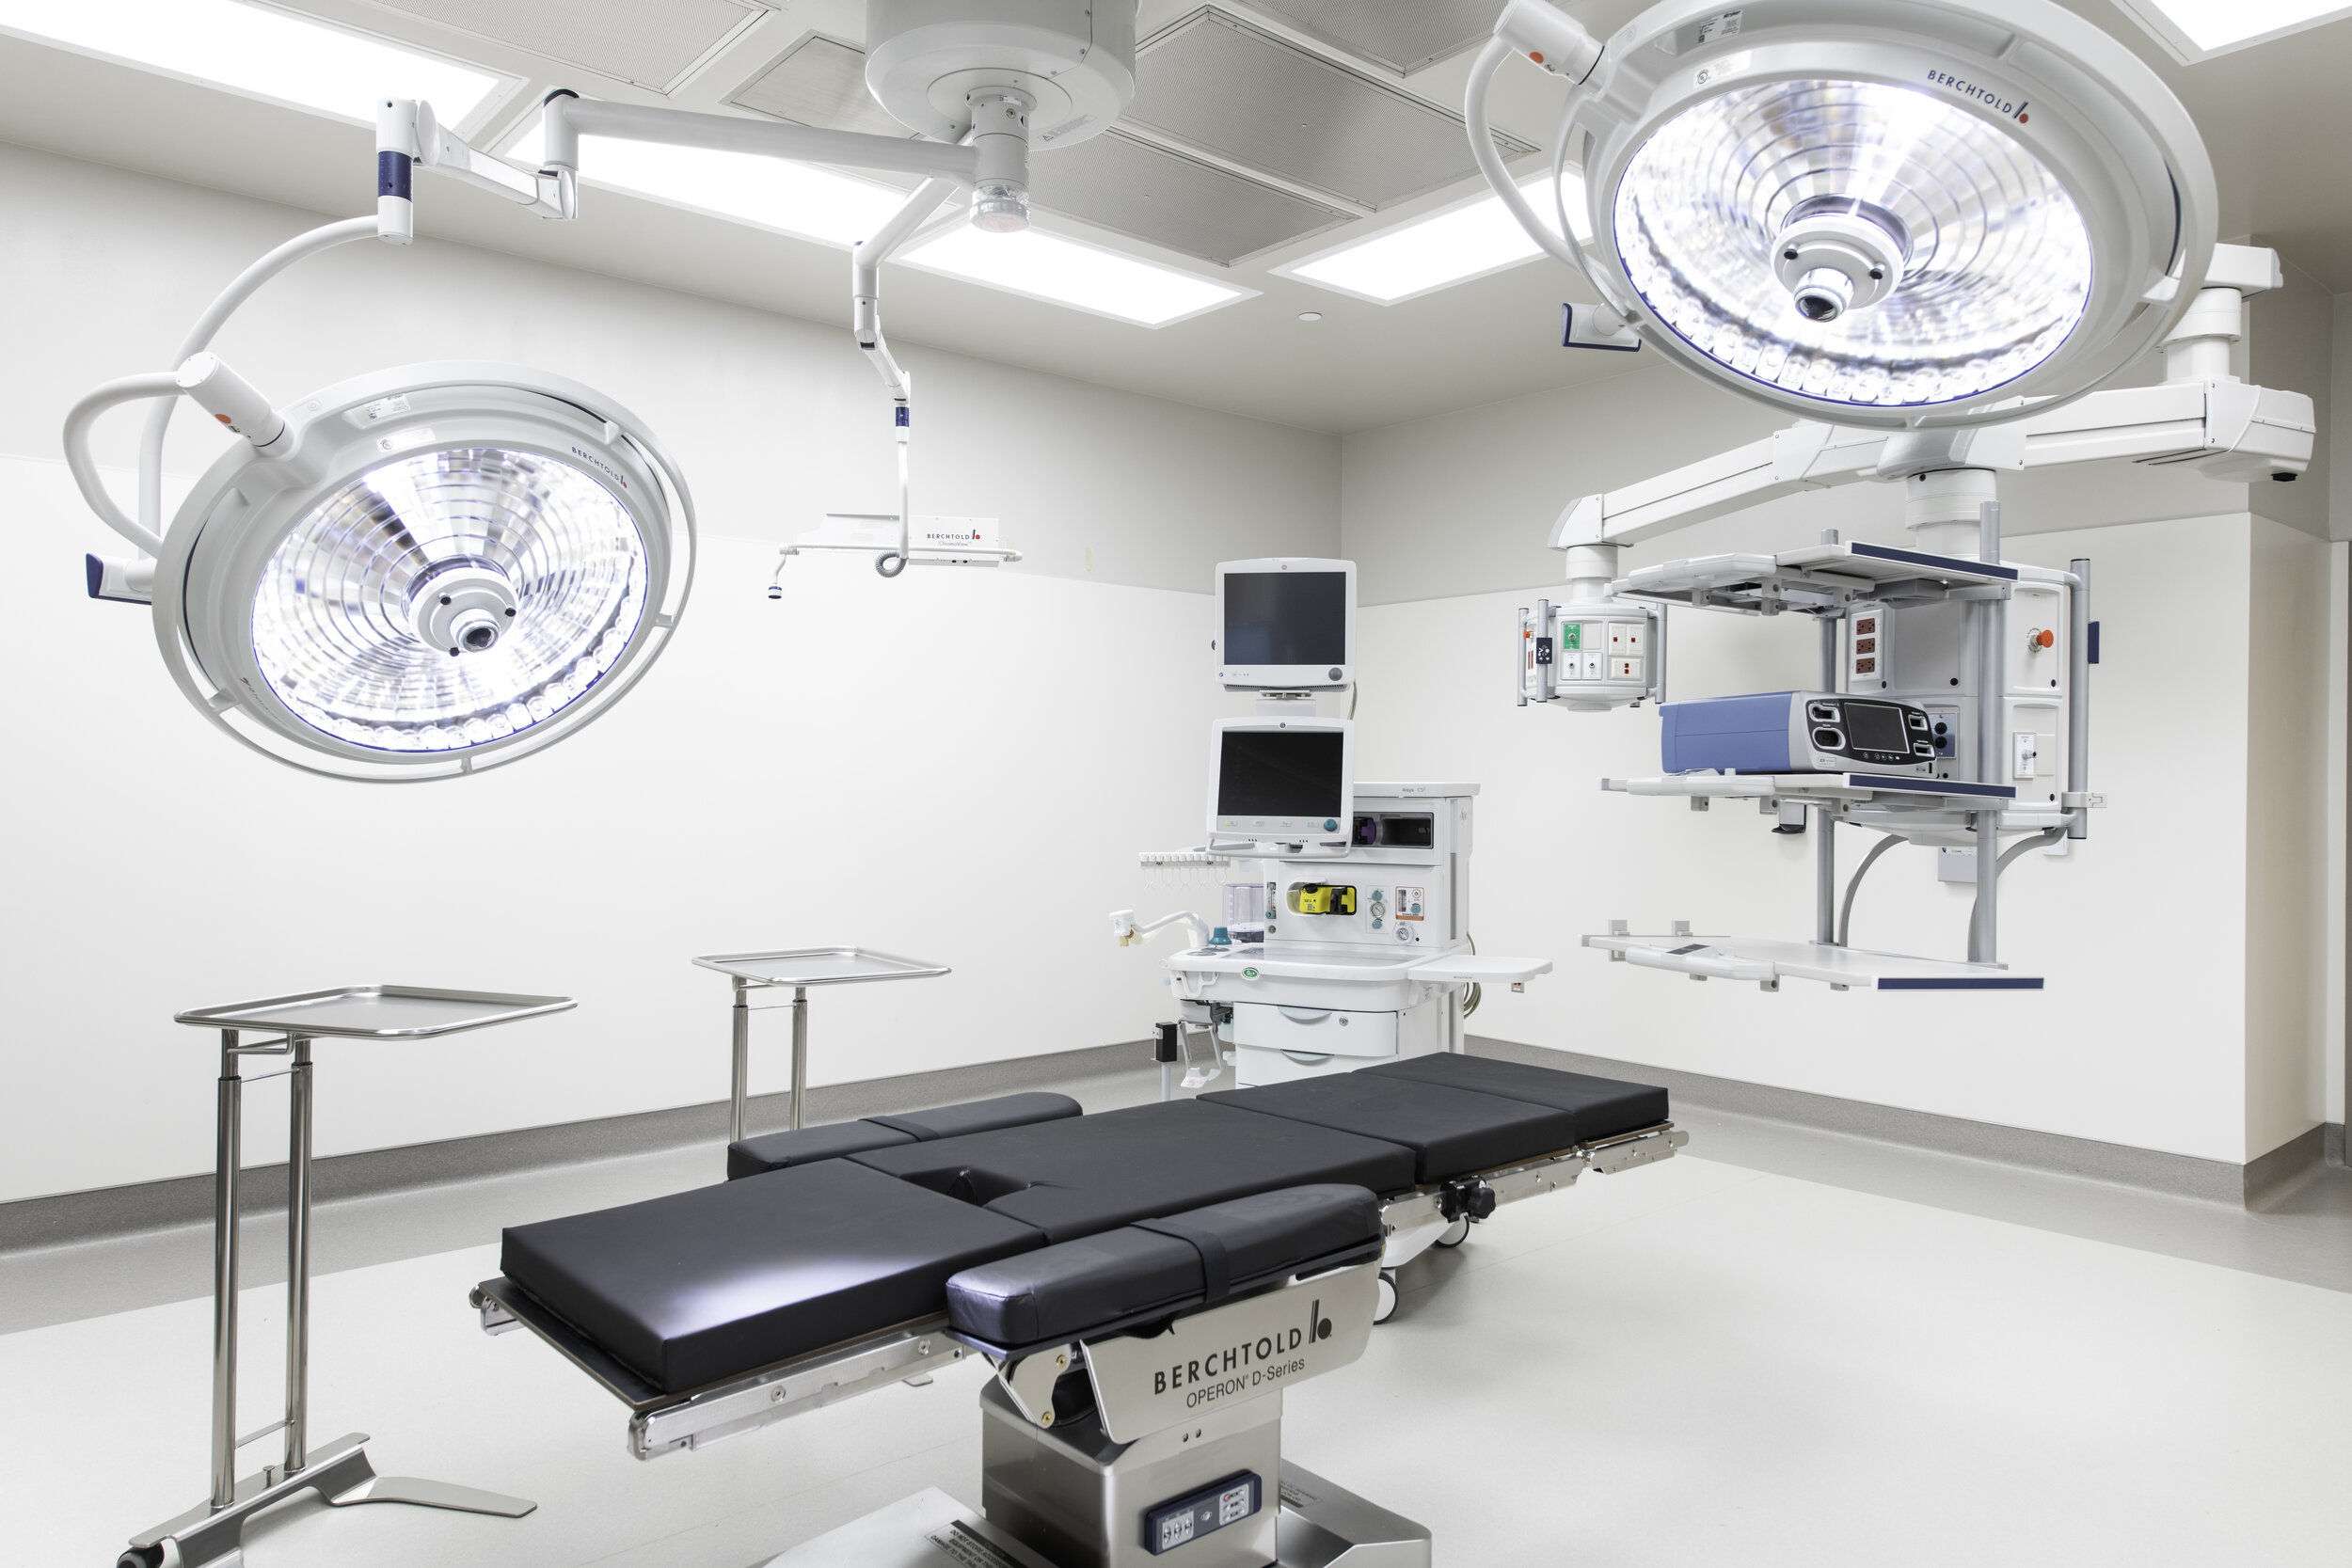bedside_monitor: (1213, 556, 1361, 682), (1207, 723, 1353, 828)
medical_drawer: (1206, 987, 1403, 1092)
operating_bed: (465, 1048, 1687, 1568)
surgical_light: (1447, 2, 2229, 432), (58, 327, 702, 784)
utility_cart: (122, 976, 583, 1568), (688, 947, 959, 1136)
